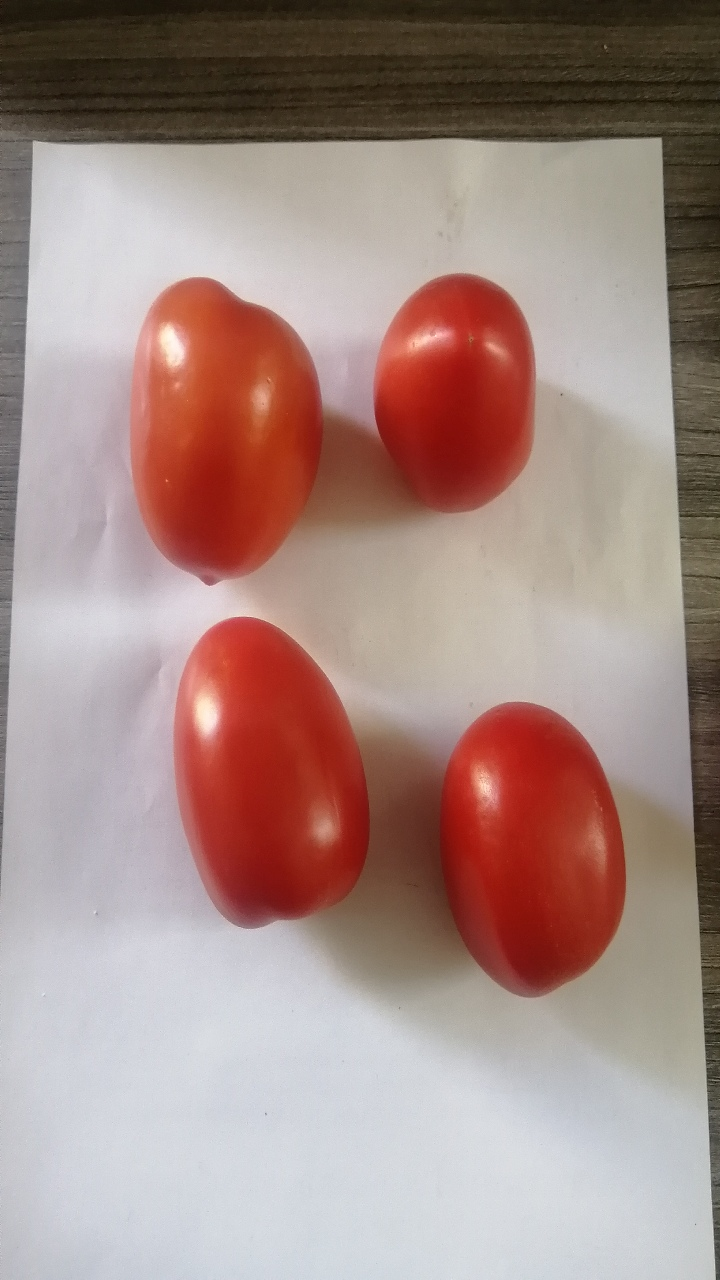tomateRojo: (157, 600, 388, 960), (111, 254, 341, 609), (415, 680, 648, 1015), (357, 254, 561, 526)
